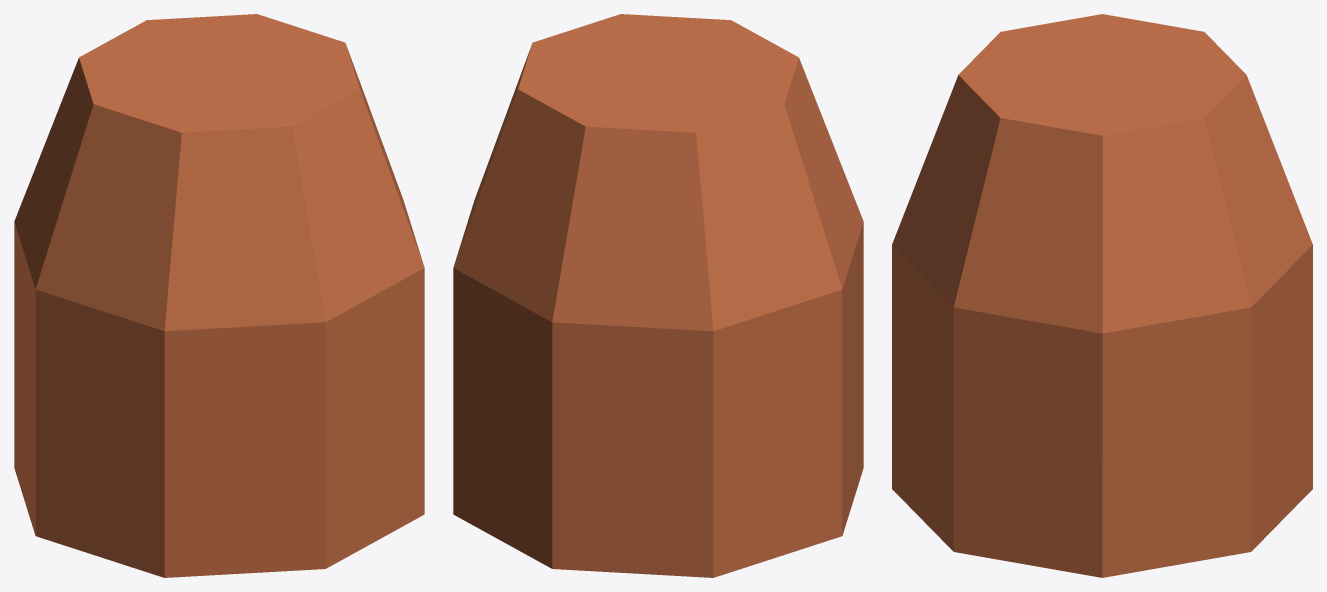
The model's file is BLT-45ACPfbx.fbx.
3 views of the same model, side by side, from view 1: azimuth 30°, elevation 25°; view 2: azimuth 150°, elevation 25°; view 3: azimuth 270°, elevation 25° (orthographic).
Parts seen in each view (by area): view 1: Cylinder.001; view 2: Cylinder.001; view 3: Cylinder.001.
Part boxes in pixels (x1,y1,x2,y2): Cylinder.001: (14,14,424,577); Cylinder.001: (453,14,863,577); Cylinder.001: (892,14,1312,577).
Size of the model in its own units: 23.94 by 26 by 23.94.
